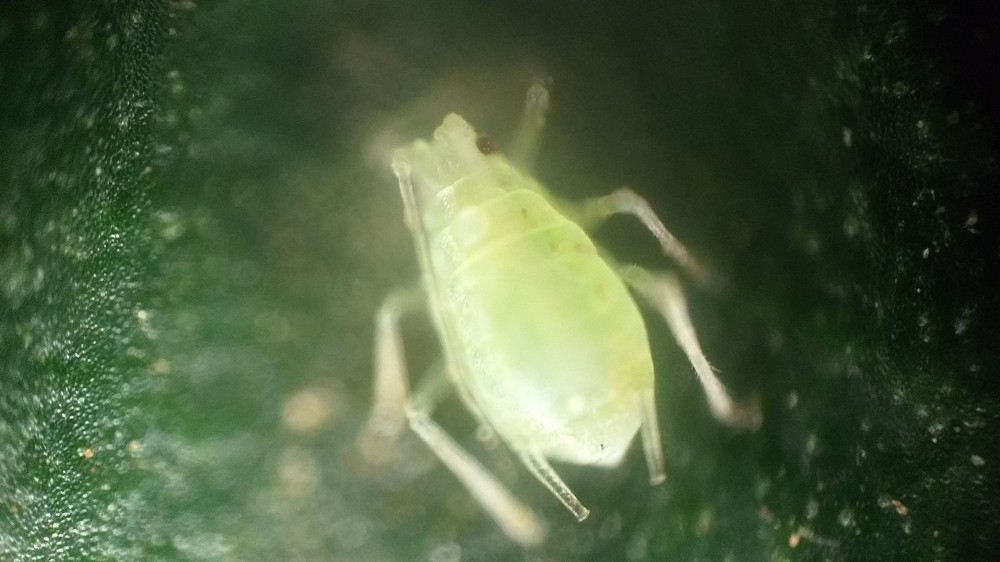Pulgon: (303, 66, 788, 547)
